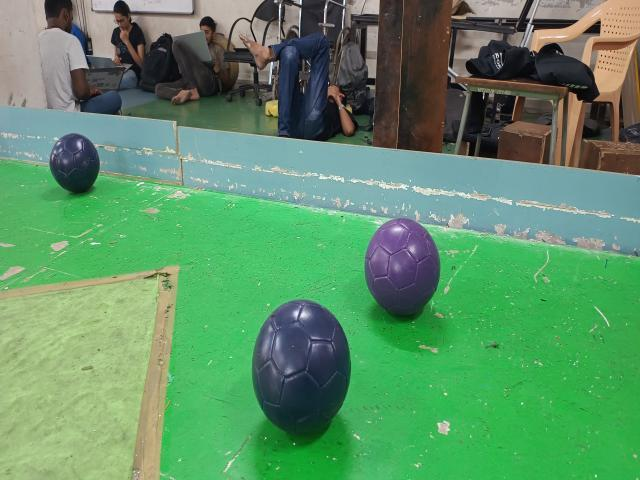jambhalya: (365, 218, 440, 315)
kaalyya: (252, 300, 351, 433), (49, 133, 100, 193)
